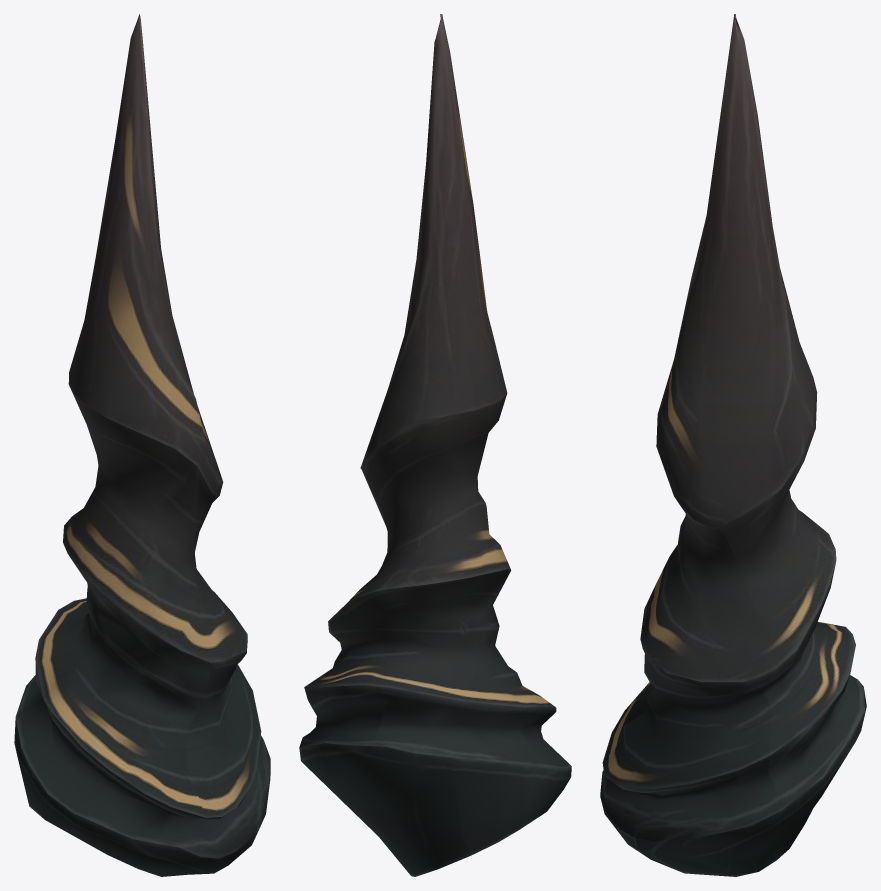
Rendered from obsidian_small_spikes_b_lite.glb.
The picture shows the model from 3 angles, left to right: view 1: azimuth 30°, elevation 25°; view 2: azimuth 150°, elevation 25°; view 3: azimuth 270°, elevation 25°; orthographic projection.
Visible parts, largest first — view 1: SM_KC_Small_SPIKES_01_B; view 2: SM_KC_Small_SPIKES_01_B; view 3: SM_KC_Small_SPIKES_01_B.
Boxes of the visible parts, box(x1,y1,x2,y2) form: SM_KC_Small_SPIKES_01_B: box(14, 14, 270, 876); SM_KC_Small_SPIKES_01_B: box(299, 14, 571, 876); SM_KC_Small_SPIKES_01_B: box(600, 14, 866, 876).
Bounding box in the file's own units: 0.5337 × 1.87 × 0.53.
1 material, 1 textured.
